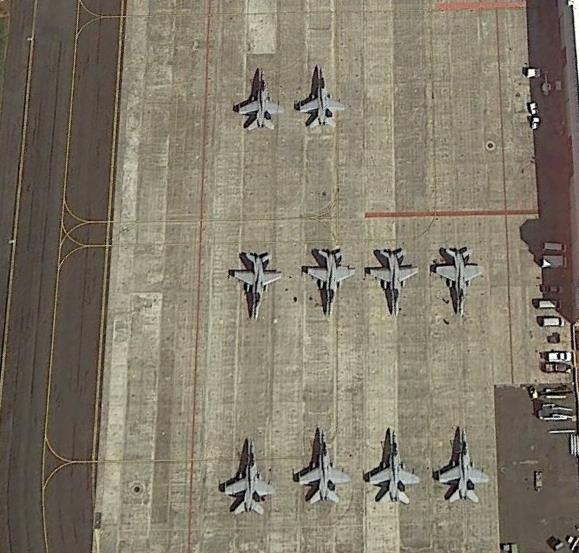F/A-18: (432, 420, 492, 505), (364, 427, 423, 505), (291, 431, 349, 508), (430, 244, 488, 318), (221, 437, 273, 519), (304, 242, 355, 317), (366, 247, 420, 316), (231, 67, 286, 133), (292, 66, 346, 132), (231, 251, 281, 320)
